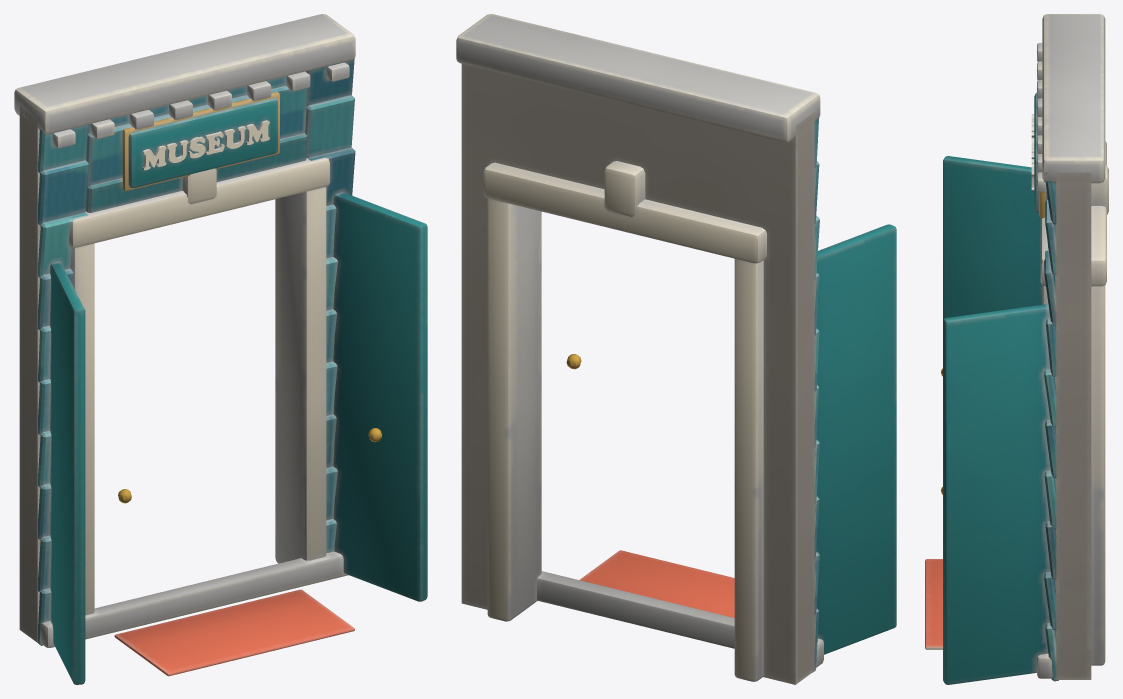
File: wall_door.glb
The picture shows the model from 3 angles, left to right: view 1: azimuth 30°, elevation 25°; view 2: azimuth 150°, elevation 25°; view 3: azimuth 270°, elevation 25°; orthographic projection. The views are drawn at different scales.
Parts seen in each view (by area): view 1: SM_WallDoor; view 2: SM_WallDoor; view 3: SM_WallDoor.
Boxes of the visible parts, x1,y1,x2,y2 form: SM_WallDoor: (14,14,427,684); SM_WallDoor: (456,14,896,684); SM_WallDoor: (925,14,1108,684).
Size of what is drawn, in the model's own units: 2.26 by 3.3 by 1.05.
Materials: 1 (1 with a texture image).
